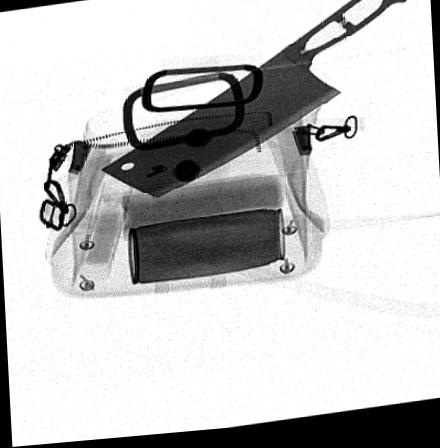Knife: (98, 0, 410, 201)
